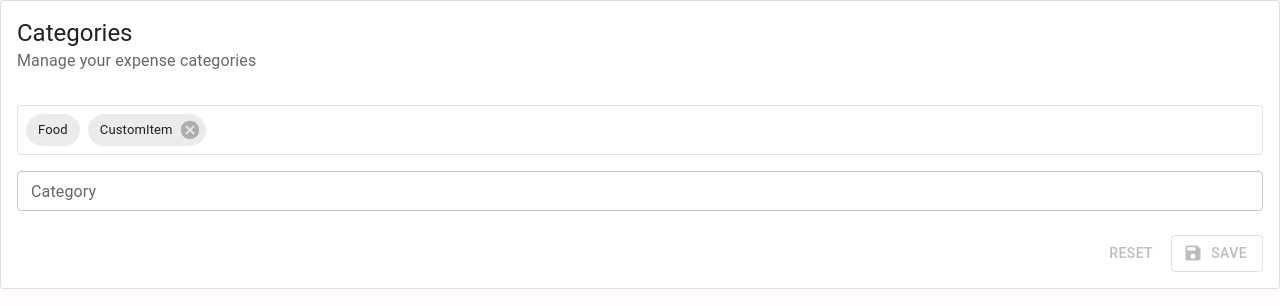
Test case: ManageOptions › should remove a chip when clicking delete button
Expected: the text "CustomItem" is shown, [100, 122, 173, 137]
Click the icon next to "CustomItem".
click(190, 130)  # box [179, 119, 201, 141]
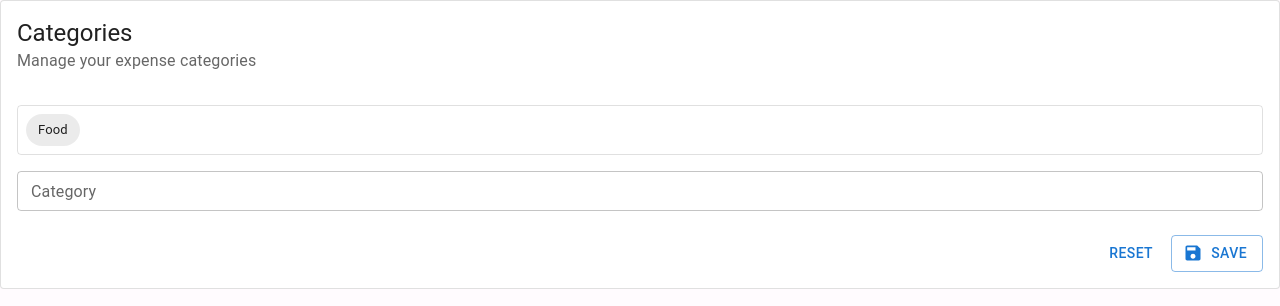
Result: the text "CustomItem" is gone
